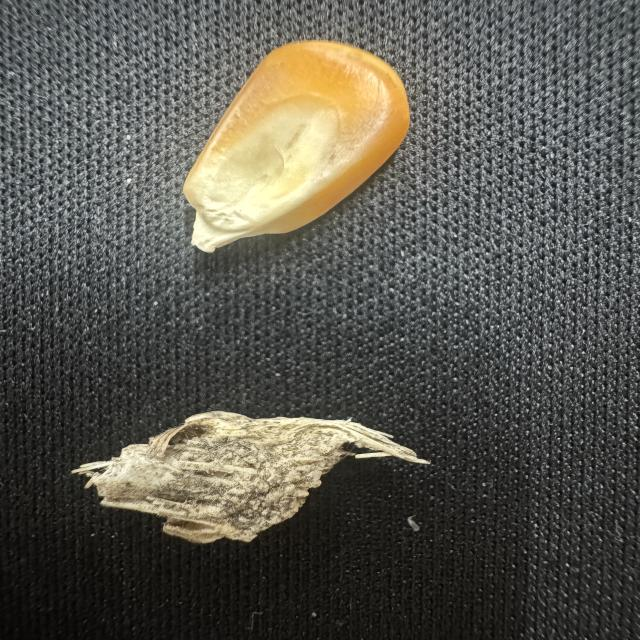Bad-Seed: (69, 407, 438, 546)
Good-Seed: (176, 36, 416, 256)
